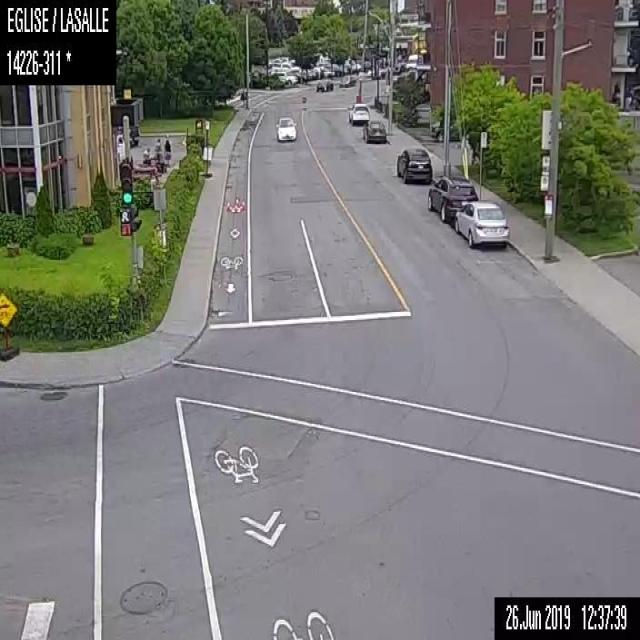construction: (236, 198, 246, 214), (224, 200, 236, 213), (232, 195, 240, 213)
pedestrian: (162, 133, 171, 168), (140, 146, 154, 165), (154, 134, 162, 162)
vehicle: (453, 198, 508, 250), (426, 174, 477, 220), (394, 144, 432, 184), (430, 120, 460, 140), (276, 113, 296, 140), (363, 117, 385, 141), (348, 101, 370, 122), (271, 69, 296, 84), (338, 74, 356, 89), (314, 78, 333, 91)
